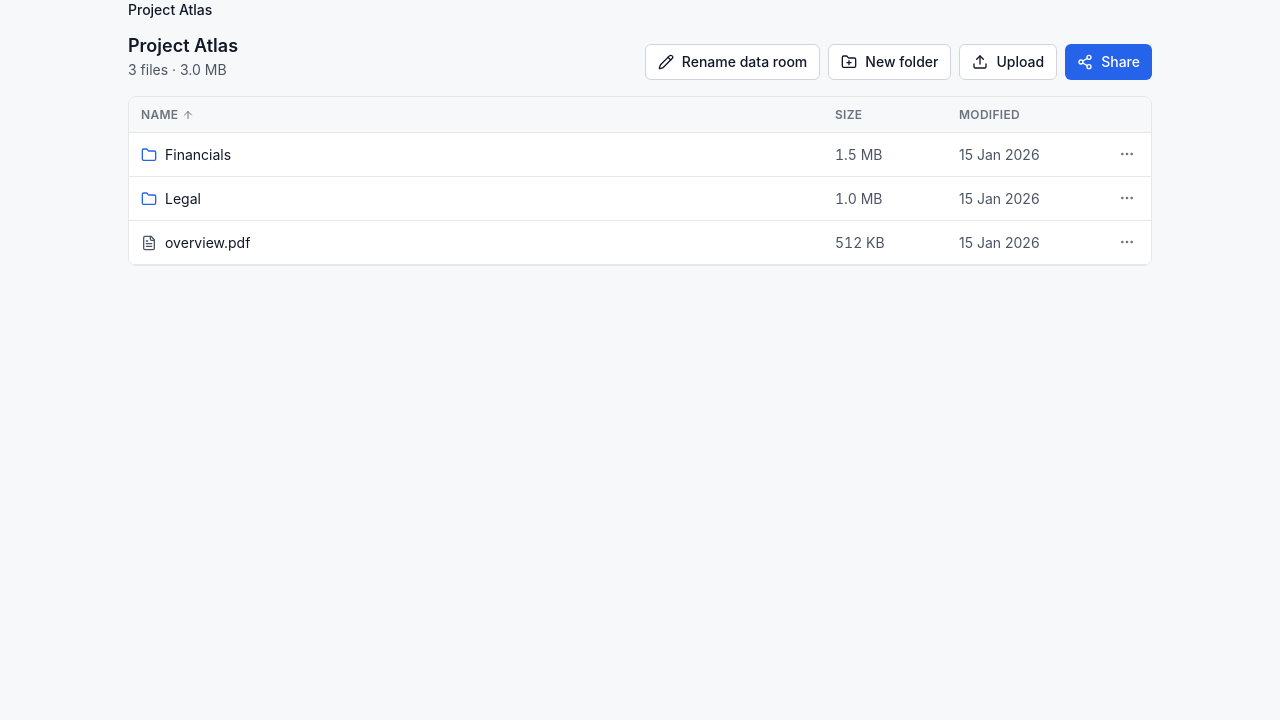
Test: FolderPage › keeps the typed room name in the dialog when the update fails
Check: the heading "Project Atlas" is shown, box [128, 32, 238, 60]
Click the button "Rename data room": (733,62) [645, 44, 820, 80]
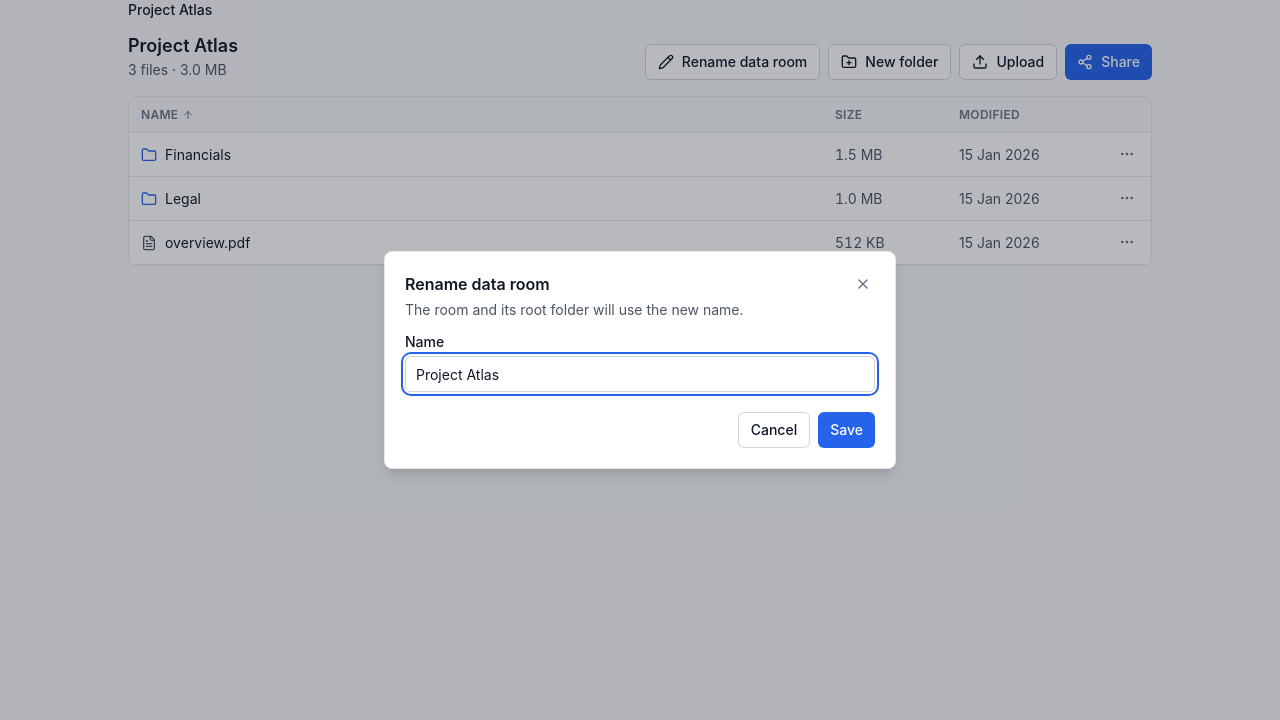
Replace the text in the field labelled "Name" with "Project Aurora": (640,374) [405, 356, 875, 392]
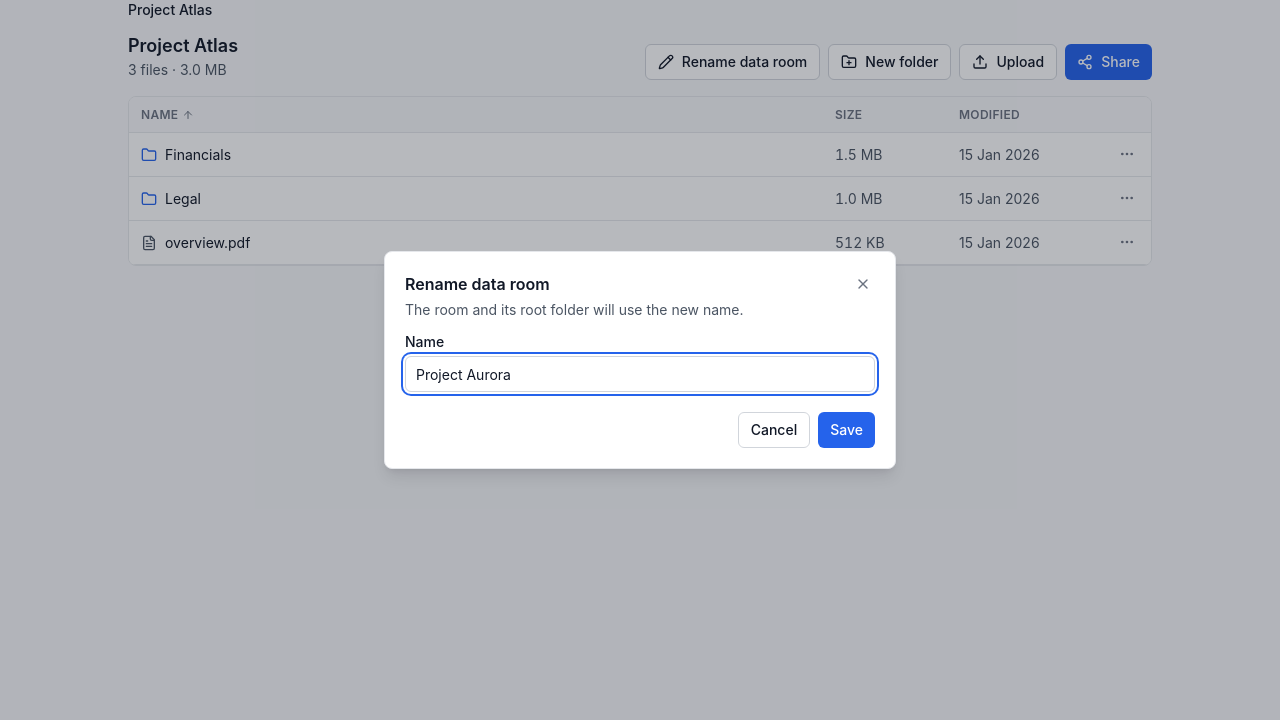
Click the button "Save": (847,430) [818, 412, 875, 448]
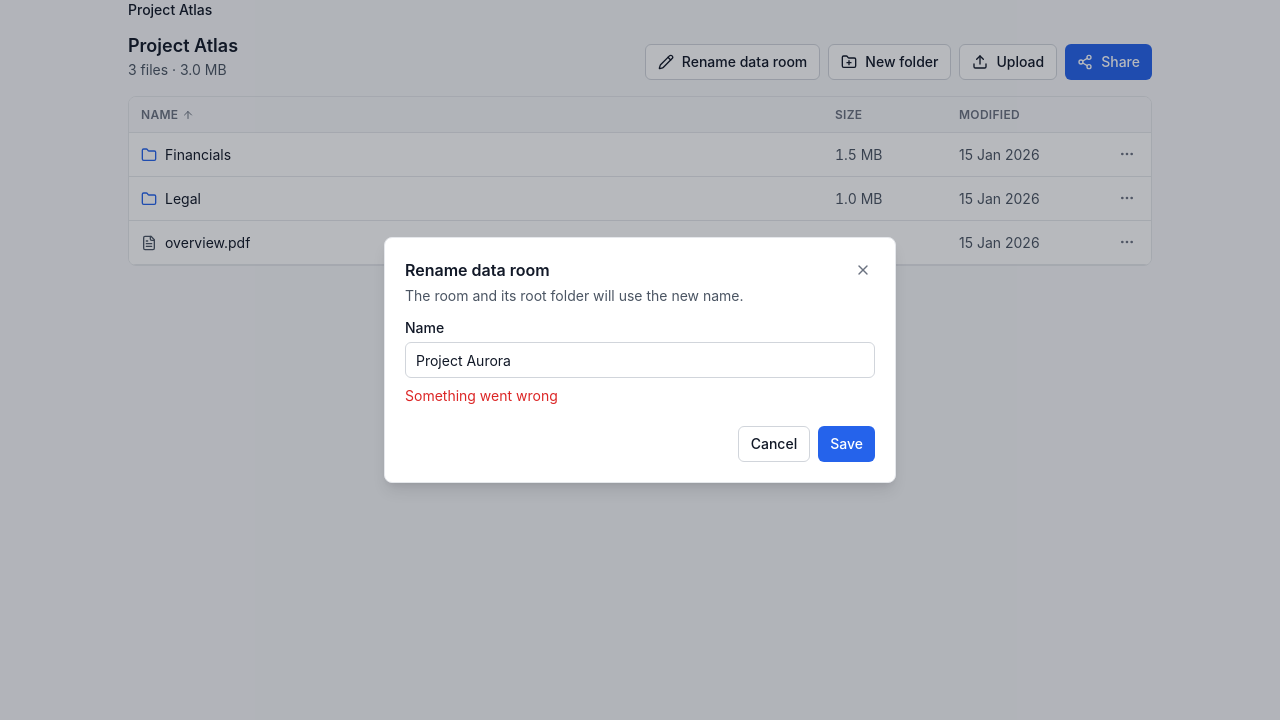
Check: the text "Project Atlas" is shown, box [128, 0, 212, 20]
Check: the message reads "Something went wrong", box [405, 387, 558, 404]
